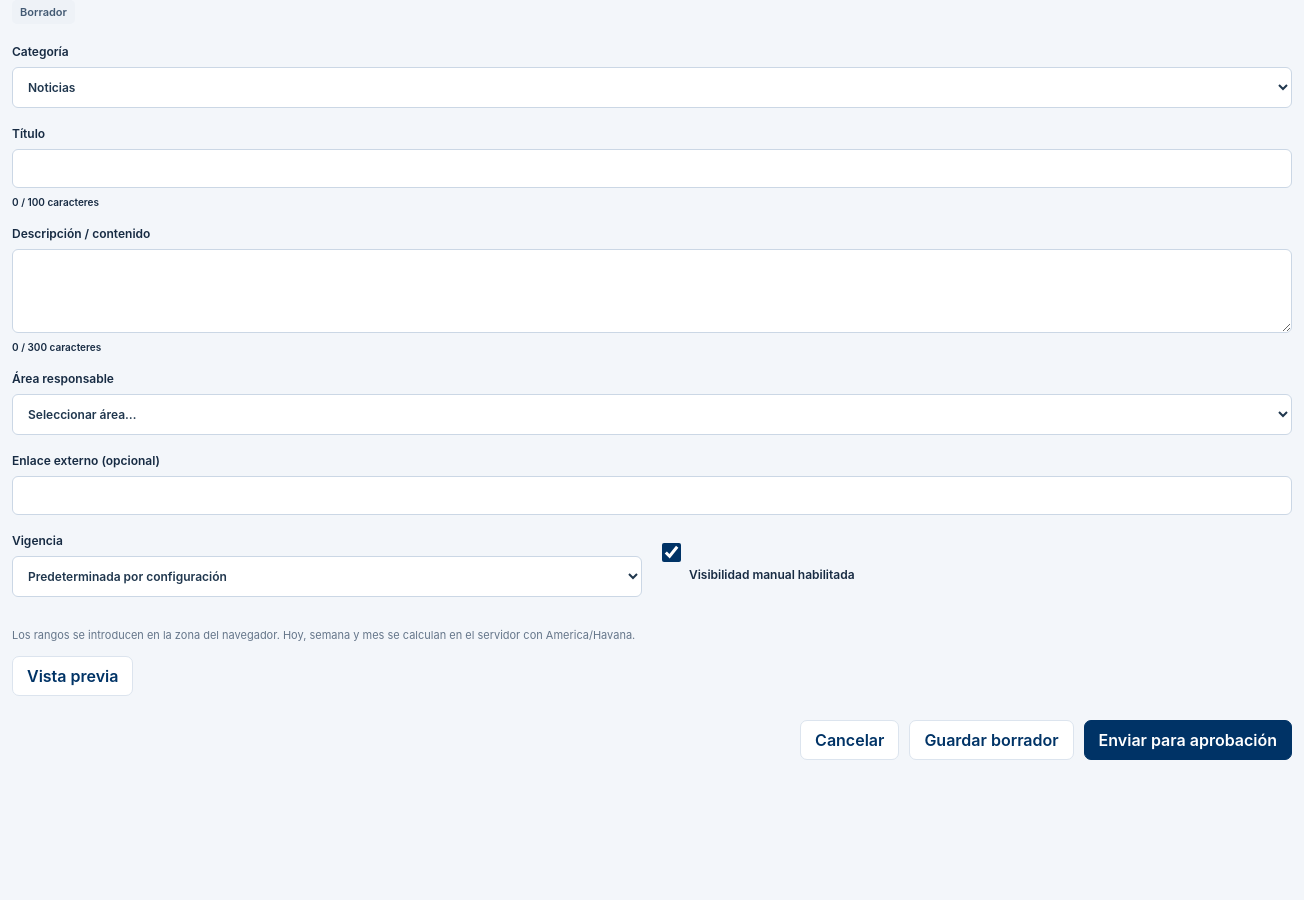
Test: bloquea envíos duplicados mientras guarda
Step 1. Type "Noticia de prueba" into the field labelled "Título" → [652, 168], box [12,149,1292,188]
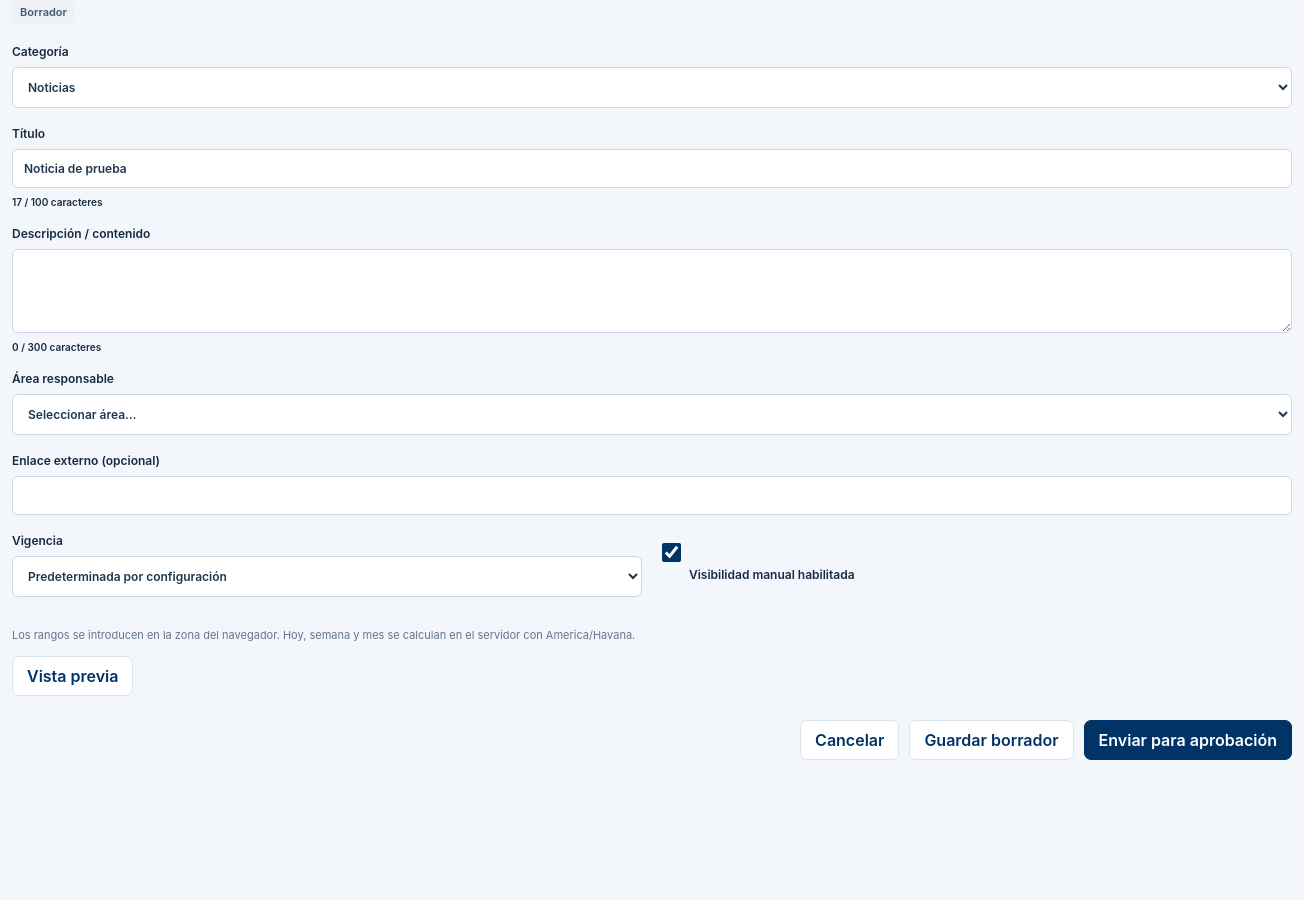
Step 2. Type "Descripción válida" into the text box labelled "Descripción / contenido" → [652, 291], box [12,249,1292,333]
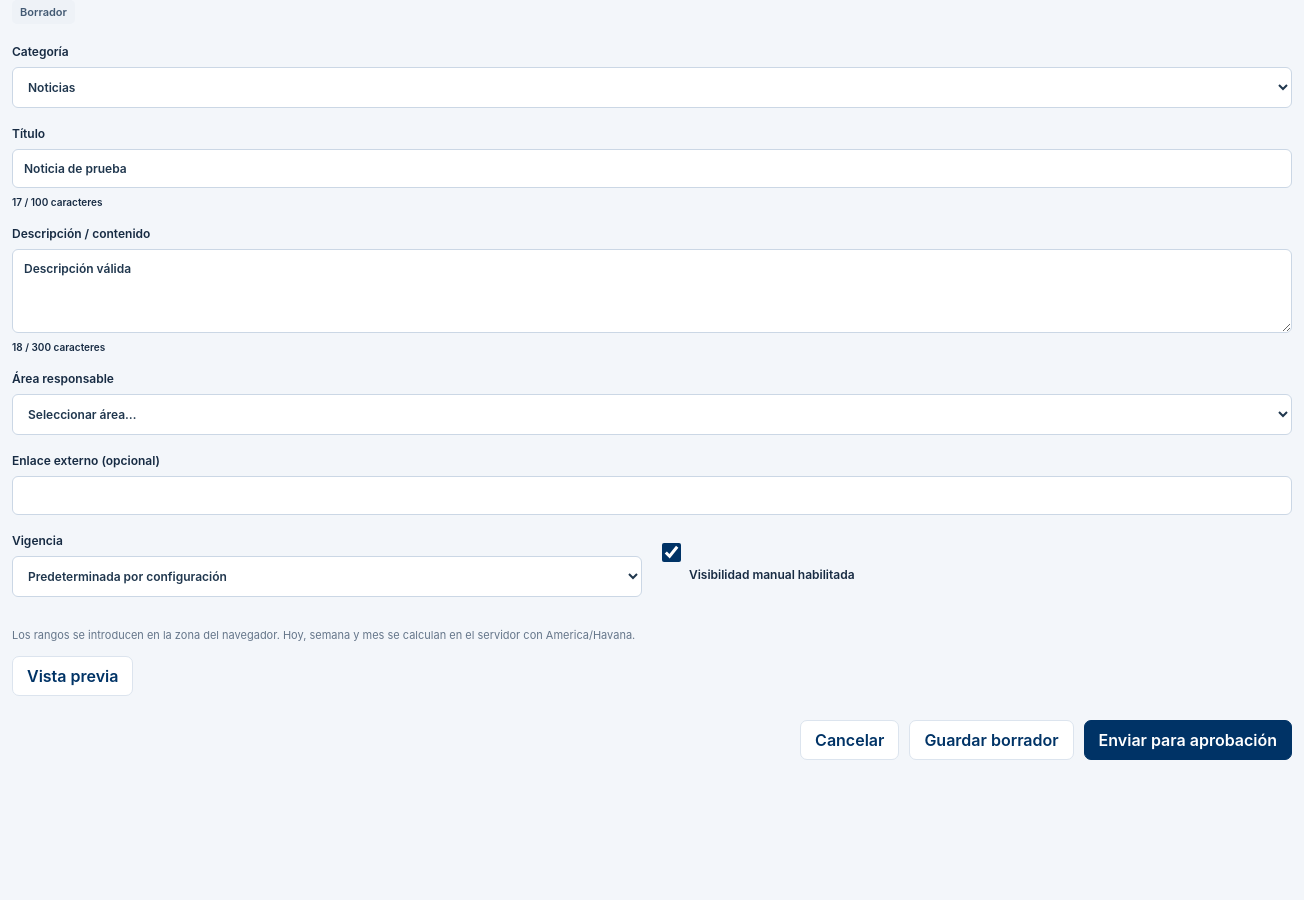
Step 3. Select "Área DEMO" in the dropdown labelled "Área responsable" → [652, 414], box [12,394,1292,435]
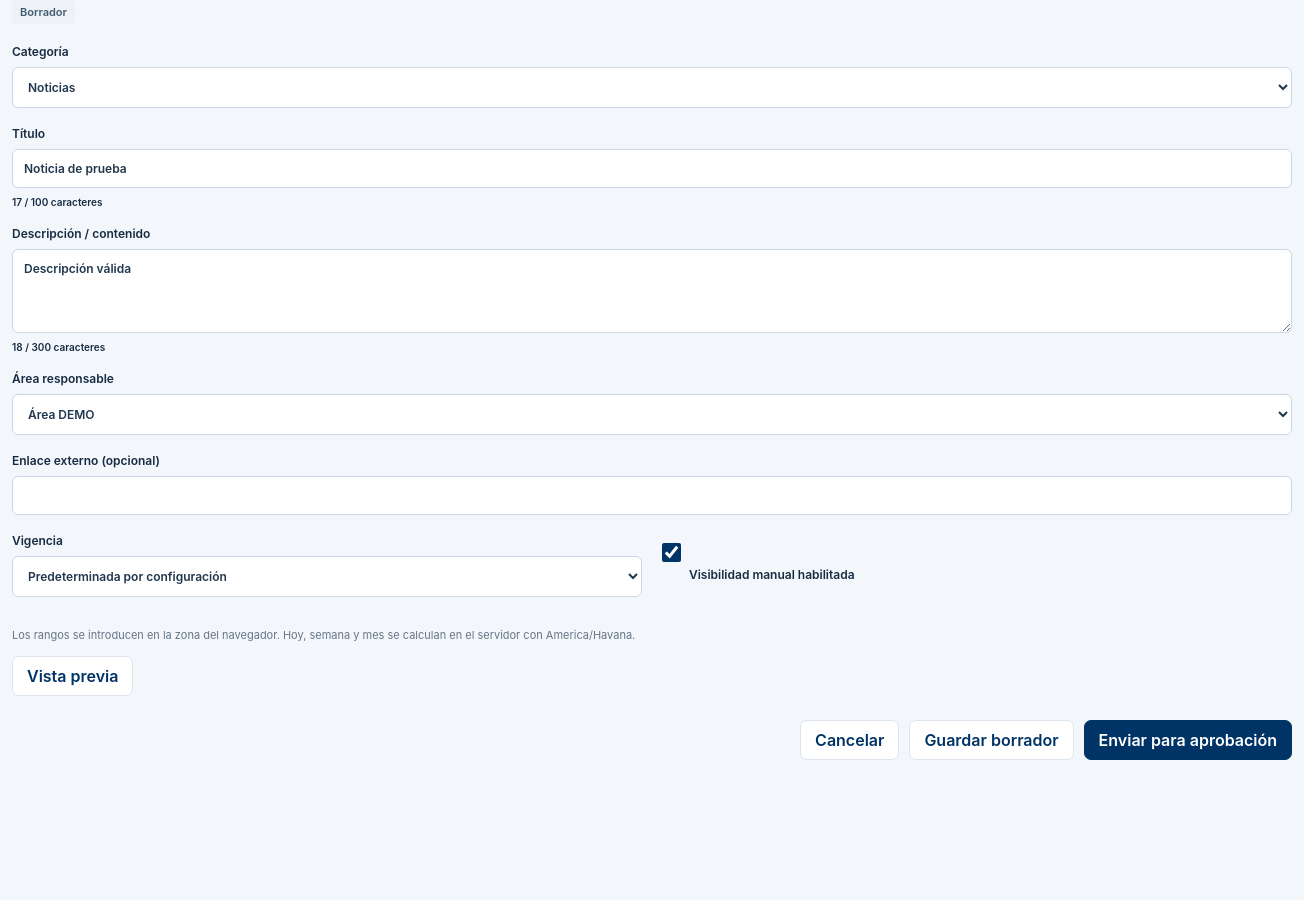
Step 4. Submit the text "Guardar borrador"
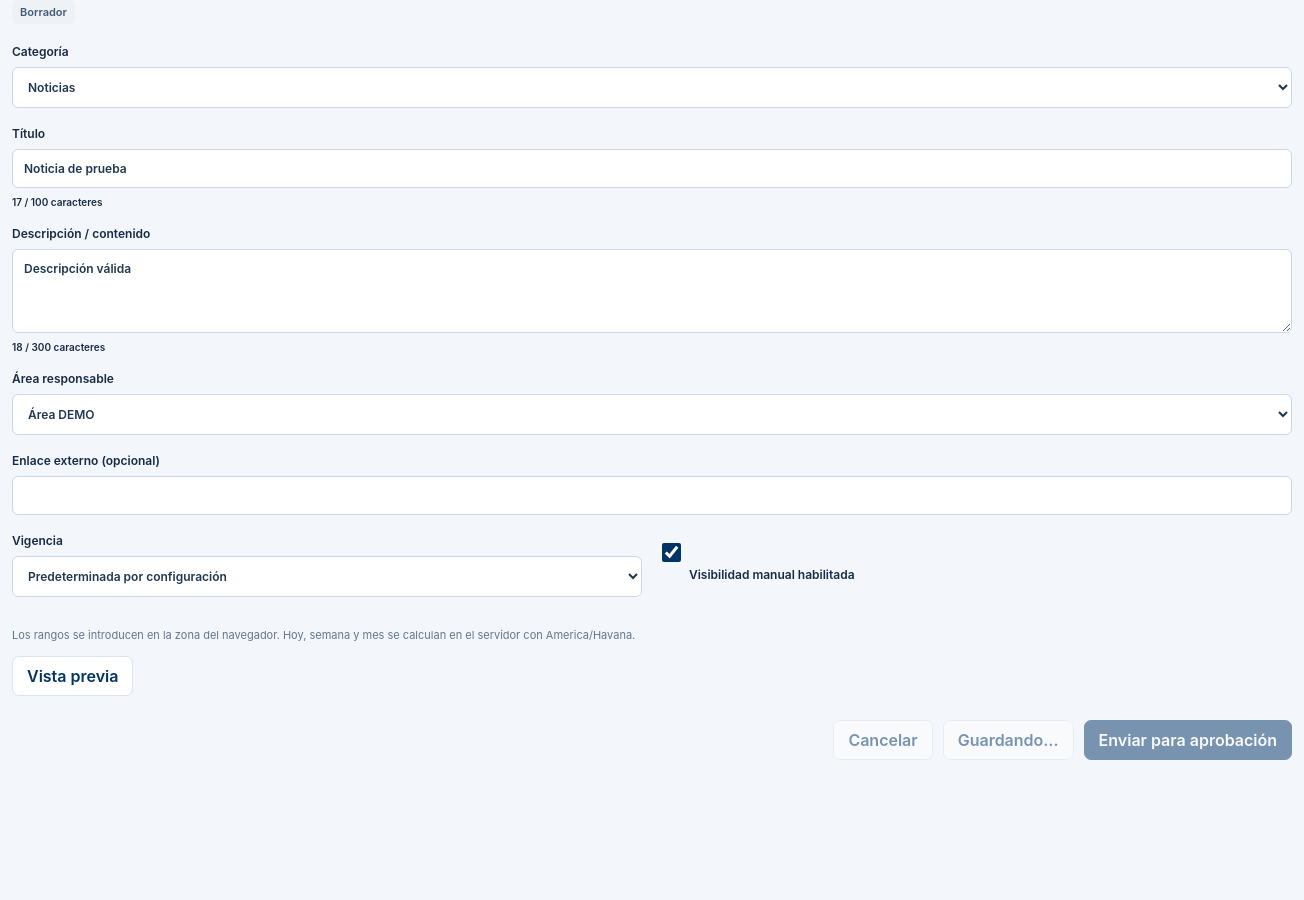
Step 5. Submit the text "Guardar borrador"
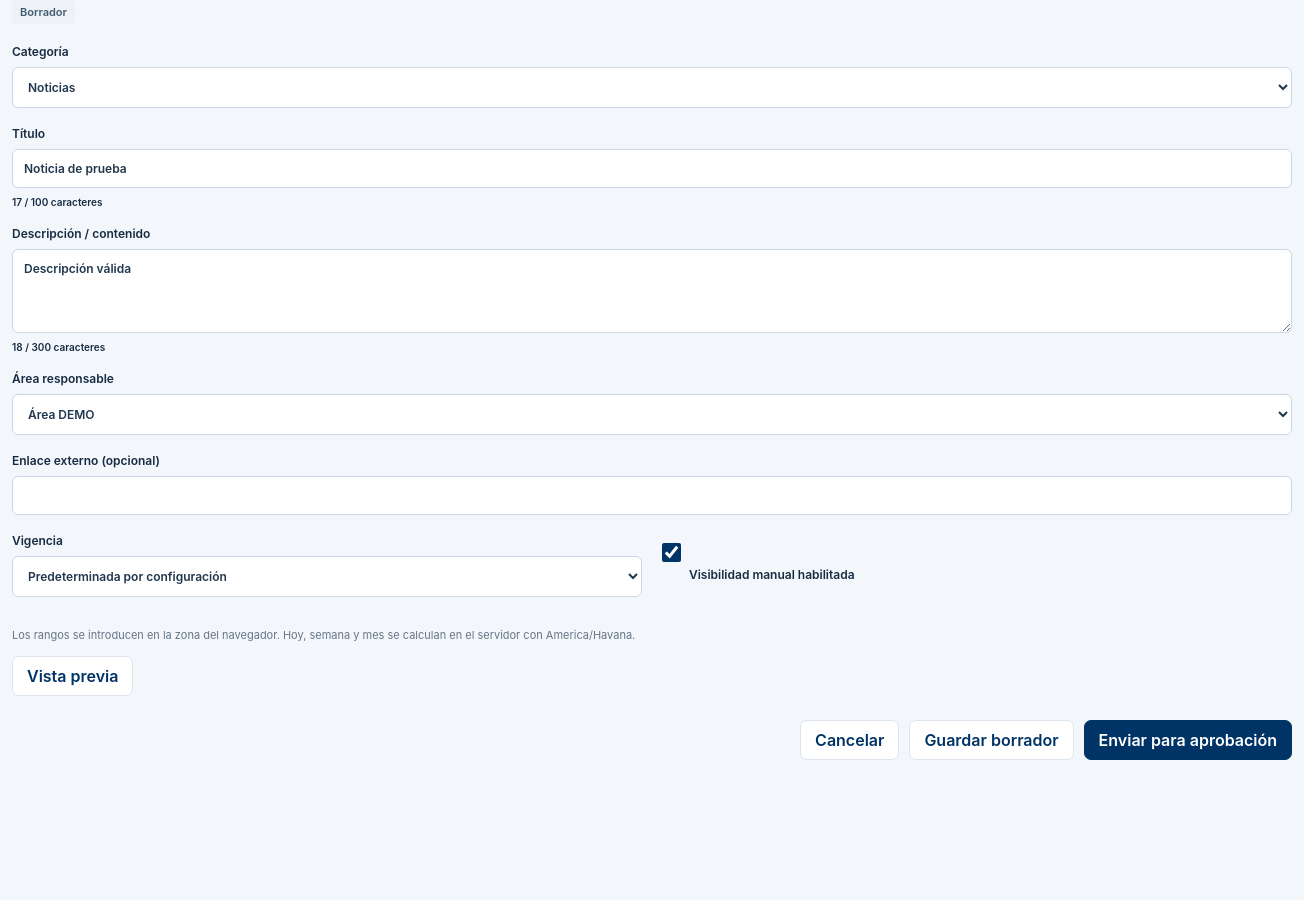
Expected: the button "Guardar borrador" is enabled, [909,720,1074,760]
